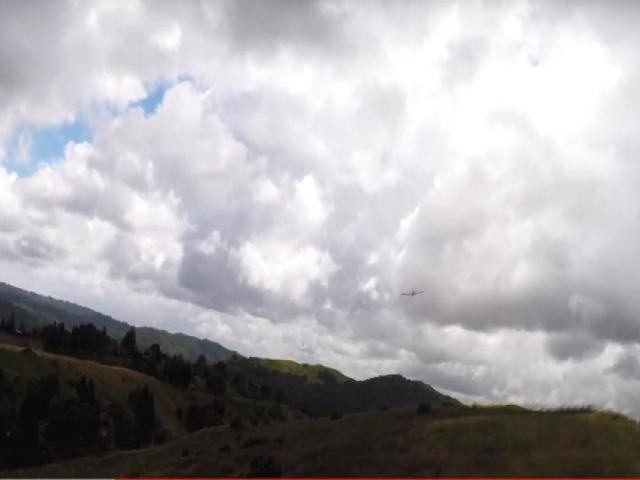iha: (401, 288, 424, 300)
